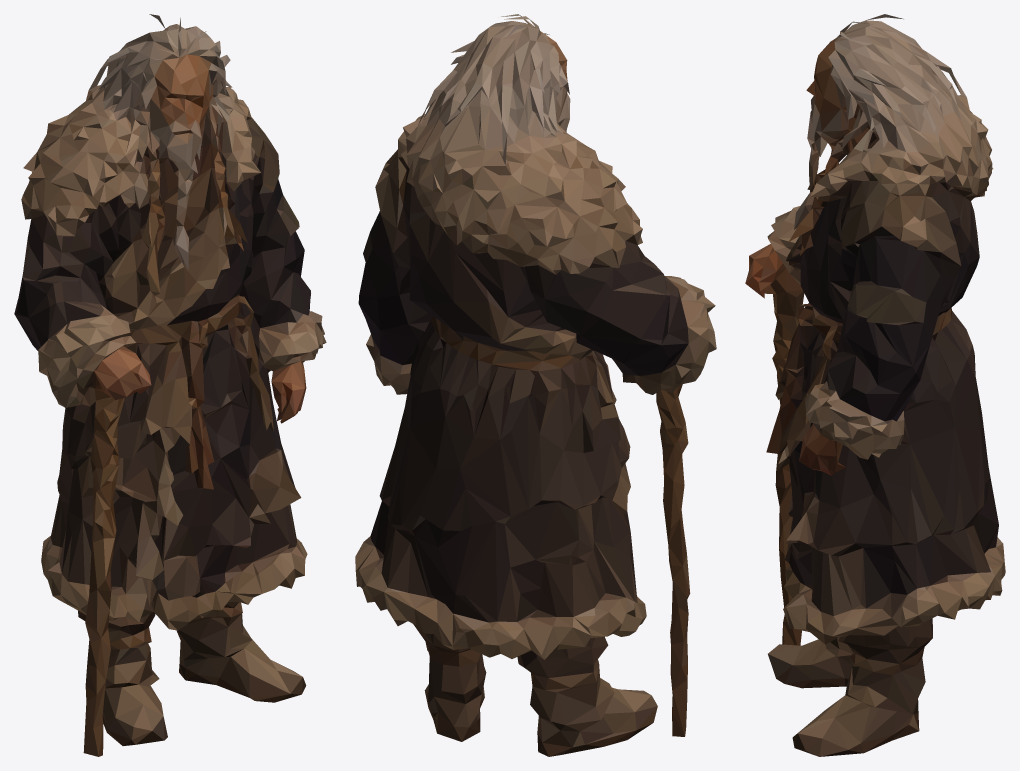
The model's file is fig_eld_crowd.glb.
The picture shows the model from 3 angles, left to right: view 1: azimuth 30°, elevation 25°; view 2: azimuth 150°, elevation 25°; view 3: azimuth 270°, elevation 25°; orthographic projection. The views are drawn at different scales.
Parts seen in each view (by area): view 1: fig; view 2: fig; view 3: fig.
Boxes of the visible parts, x1,y1,x2,y2 form: fig: [14, 14, 326, 756]; fig: [355, 14, 716, 756]; fig: [745, 14, 1005, 756].
Bounding box in the file's own units: 0.8753 × 1.9 × 0.6454.
